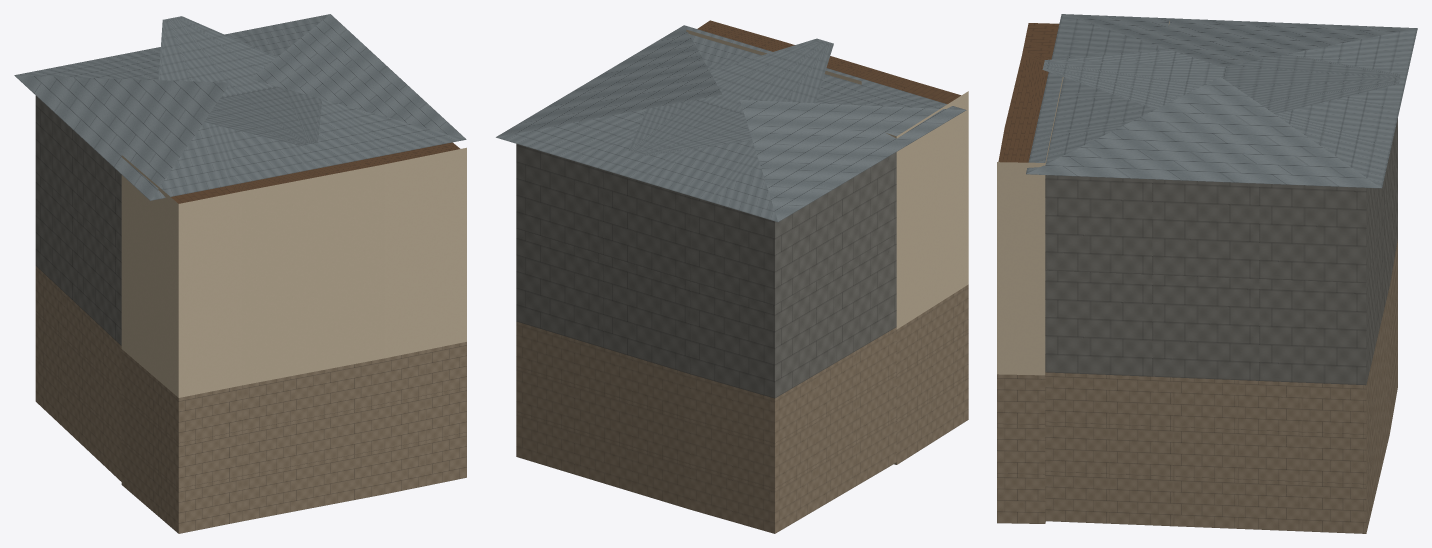
The model's file is bld_c40_-48_459.gltf.
3 views of the same model, side by side, from view 1: azimuth 30°, elevation 25°; view 2: azimuth 150°, elevation 25°; view 3: azimuth 270°, elevation 25° (orthographic). The views are drawn at different scales.
Parts seen in each view (by area): view 1: bld_c40_-48_459; view 2: bld_c40_-48_459; view 3: bld_c40_-48_459.
Boxes of the visible parts, bbox=[...] form: bld_c40_-48_459: bbox=[14, 14, 466, 533]; bld_c40_-48_459: bbox=[496, 20, 968, 533]; bld_c40_-48_459: bbox=[997, 14, 1417, 533].
Bounding box in the file's own units: 12.83 × 13.2 × 13.07.
6 materials, 6 textured.
